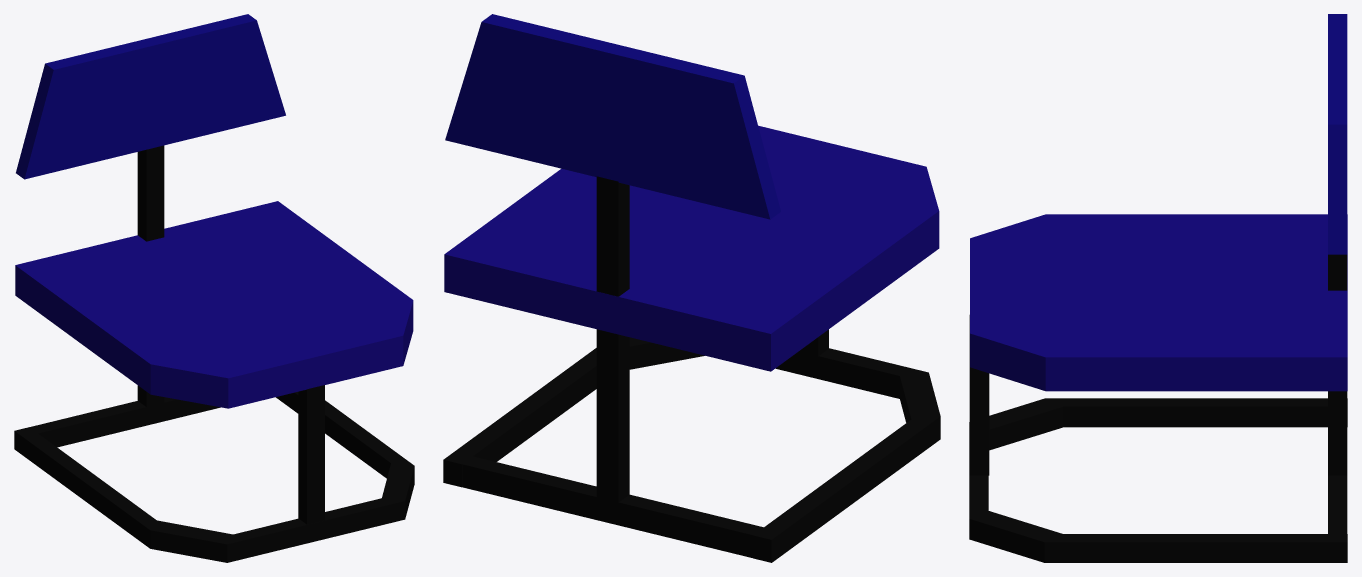
Rendered from chair-regular-blue.fbx.
3 views of the same model, side by side, from view 1: azimuth 30°, elevation 25°; view 2: azimuth 150°, elevation 25°; view 3: azimuth 270°, elevation 25° (orthographic). The views are drawn at different scales.
Parts seen in each view (by area): view 1: Cube, Cube.005, Cube.003, Cube.002, Cube.004; view 2: Cube, Cube.005, Cube.003, Cube.001, Cube.004; view 3: Cube, Cube.003, Cube.005, Cube.002, Cube.001, Cube.004.
Part boxes in pixels (x1,y1,x2,y2): Cube: (15, 201, 413, 408); Cube.005: (16, 14, 285, 179); Cube.003: (14, 392, 414, 562); Cube.002: (298, 385, 324, 524); Cube.004: (137, 145, 164, 241); Cube: (444, 125, 939, 371); Cube.005: (445, 14, 780, 219); Cube.003: (443, 337, 940, 562); Cube.001: (596, 329, 629, 502); Cube.004: (596, 176, 629, 296); Cube: (970, 214, 1347, 391); Cube.003: (969, 398, 1347, 562); Cube.005: (1328, 14, 1347, 254); Cube.002: (969, 315, 989, 475); Cube.001: (1328, 391, 1347, 475); Cube.004: (1328, 254, 1347, 290).
Size of the model in its own units: 180 by 247 by 200.
